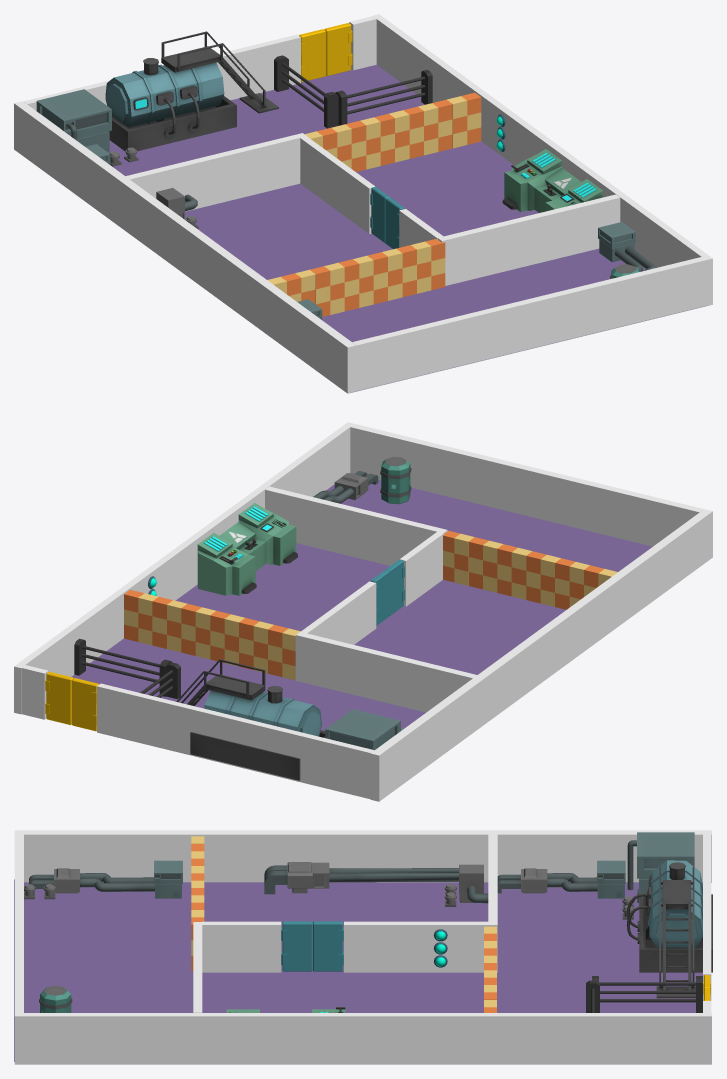
The model's file is maps_36.fbx.
3 views of the same model, one above another, from view 1: azimuth 30°, elevation 25°; view 2: azimuth 150°, elevation 25°; view 3: azimuth 270°, elevation 25° (orthographic). The views are drawn at different scales.
Parts seen in each view (by area): view 1: wall_01_08_geo, wall_01_07_geo, wall_01_05_geo, tankwater_geo, wall_01_06_geo, wall_01_03_geo6, wall_01_03_geo7, table_01_geo, wall_01_11_geo2, wall_01_09_geo, generatorStation_05_geo, pCube3 (×2) (+8 smaller); view 2: wall_01_08_geo, wall_01_07_geo, wall_01_05_geo, wall_01_09_geo, wall_01_06_geo, wall_01_03_geo7, tankwater_geo, wall_01_03_geo6, table_01_geo, wall_01_11_geo2, generatorStation_05_geo, wall_01_11_geo3 (+7 smaller); view 3: wall_01_08_geo, wall_01_06_geo, wall_01_07_geo, tankwater_geo, wall_01_11_geo2, generatorStation_03_geo, wall_01_11_geo3, generatorStation_04_geo, generatorStation_04_geo2, generatorStation_05_geo, wall_01_05_geo, polySurface177 (+8 smaller).
Boxes of the visible parts, x1,y1,x2,y2 form: wall_01_08_geo: (109, 64, 708, 392); wall_01_07_geo: (14, 101, 356, 393); wall_01_05_geo: (352, 257, 706, 391); tankwater_geo: (105, 31, 278, 151); wall_01_06_geo: (372, 14, 712, 306); wall_01_03_geo6: (437, 194, 620, 285); wall_01_03_geo7: (125, 133, 306, 211); table_01_geo: (502, 149, 602, 212); wall_01_11_geo2: (300, 136, 374, 233); wall_01_09_geo: (23, 34, 300, 110); generatorStation_05_geo: (36, 89, 111, 153); pCube3 (×2): (274, 55, 432, 128); wall_01_08_geo: (71, 473, 652, 730); wall_01_07_geo: (370, 509, 712, 801); wall_01_05_geo: (350, 424, 703, 546); wall_01_09_geo: (97, 683, 374, 798); wall_01_06_geo: (14, 422, 354, 714); wall_01_03_geo7: (295, 632, 476, 712); tankwater_geo: (176, 659, 325, 780); wall_01_03_geo6: (265, 486, 447, 565); table_01_geo: (197, 503, 297, 595); wall_01_11_geo2: (301, 581, 376, 644); generatorStation_05_geo: (325, 709, 400, 750); wall_01_11_geo3: (400, 531, 443, 606); wall_01_08_geo: (14, 879, 702, 1061); wall_01_06_geo: (14, 1013, 711, 1064); wall_01_07_geo: (14, 830, 711, 882); tankwater_geo: (626, 860, 712, 998); wall_01_11_geo2: (344, 921, 488, 972); generatorStation_03_geo: (264, 862, 488, 903); wall_01_11_geo3: (202, 921, 281, 972); generatorStation_04_geo: (29, 860, 182, 898); generatorStation_04_geo2: (497, 860, 625, 898); generatorStation_05_geo: (627, 832, 694, 905); wall_01_05_geo: (14, 834, 23, 1012); polySurface177: (281, 921, 312, 971).
Size of the model in its own units: 73.34 by 15.59 by 116.
Materials: 9 (9 with a texture image).
